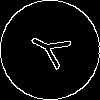Y: (25, 25, 81, 75)
